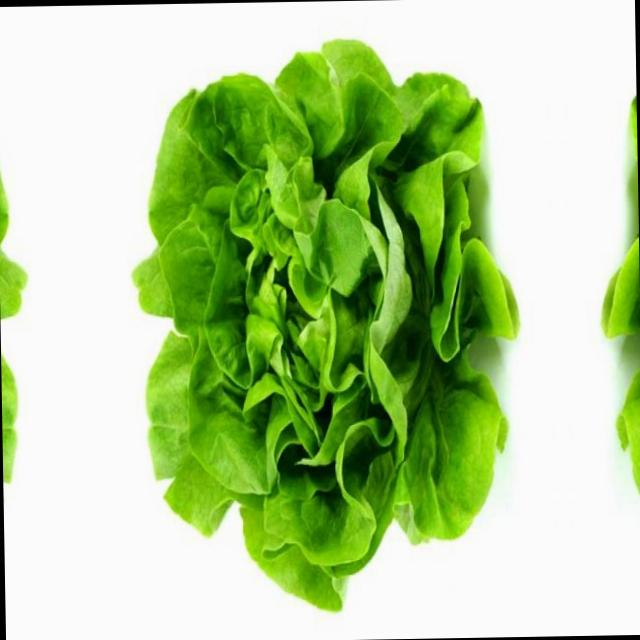healthy: (133, 29, 523, 613), (597, 26, 640, 604), (0, 37, 27, 614)
